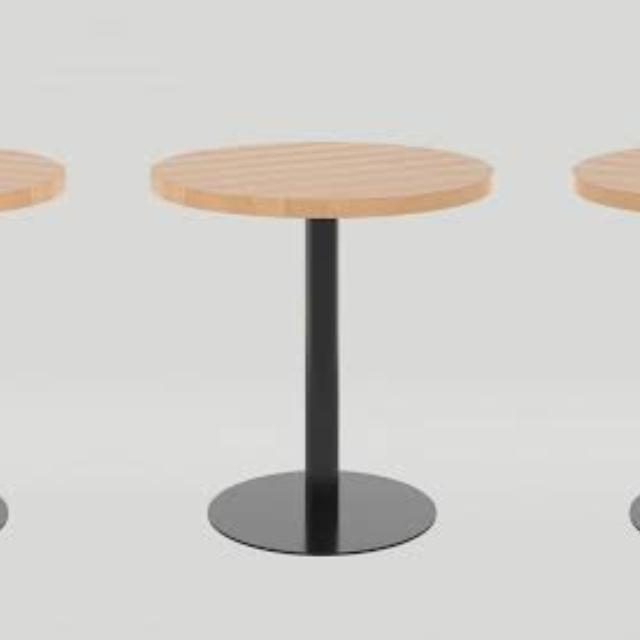obstacle: (131, 94, 533, 588), (533, 93, 640, 588), (0, 93, 83, 588)
